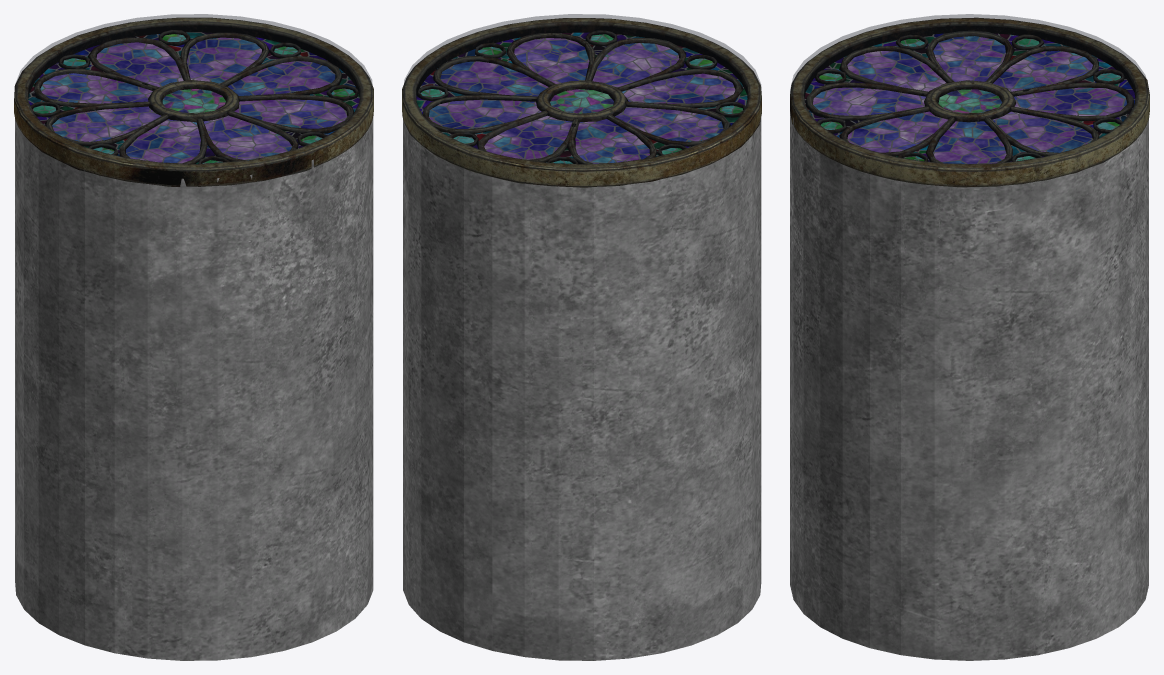
The model's file is stainedglass_pillar.gltf.
3 renders of one model, left to right at view 1: azimuth 30°, elevation 25°; view 2: azimuth 150°, elevation 25°; view 3: azimuth 270°, elevation 25°, orthographic.
Parts seen in each view (by area): view 1: Mesh; view 2: Mesh; view 3: Mesh.
Boxes of the visible parts, bbox=[...] form: Mesh: bbox=[14, 14, 373, 660]; Mesh: bbox=[402, 14, 761, 660]; Mesh: bbox=[790, 14, 1149, 660].
Size of the model in its own units: 271 by 411 by 271.
Materials: 4 (3 with a texture image).
